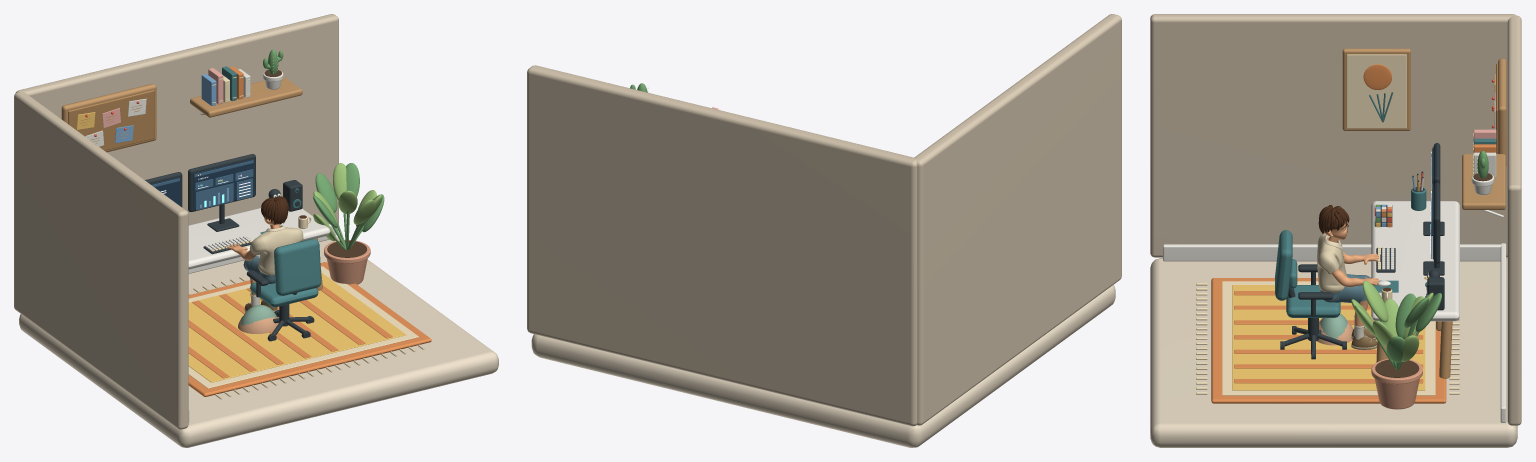
Rendered from workspace.glb.
3 renders of one model, left to right at view 1: azimuth 30°, elevation 25°; view 2: azimuth 150°, elevation 25°; view 3: azimuth 270°, elevation 25°, orthographic. The views are drawn at different scales.
Visible parts, largest first — view 1: room, plant, deki, monitor; view 2: room; view 3: room, plant, deki, monitor.
Boxes of the visible parts, x1,y1,x2,y2 form: room: (14, 14, 498, 447); plant: (256, 70, 384, 297); deki: (227, 196, 303, 311); monitor: (145, 154, 255, 231); room: (527, 14, 1121, 447); room: (1150, 14, 1521, 447); plant: (1311, 92, 1494, 409); deki: (1317, 205, 1379, 349); monitor: (1423, 143, 1444, 275).
Bounding box in the file's own units: 4.04 × 2.9 × 3.64.
